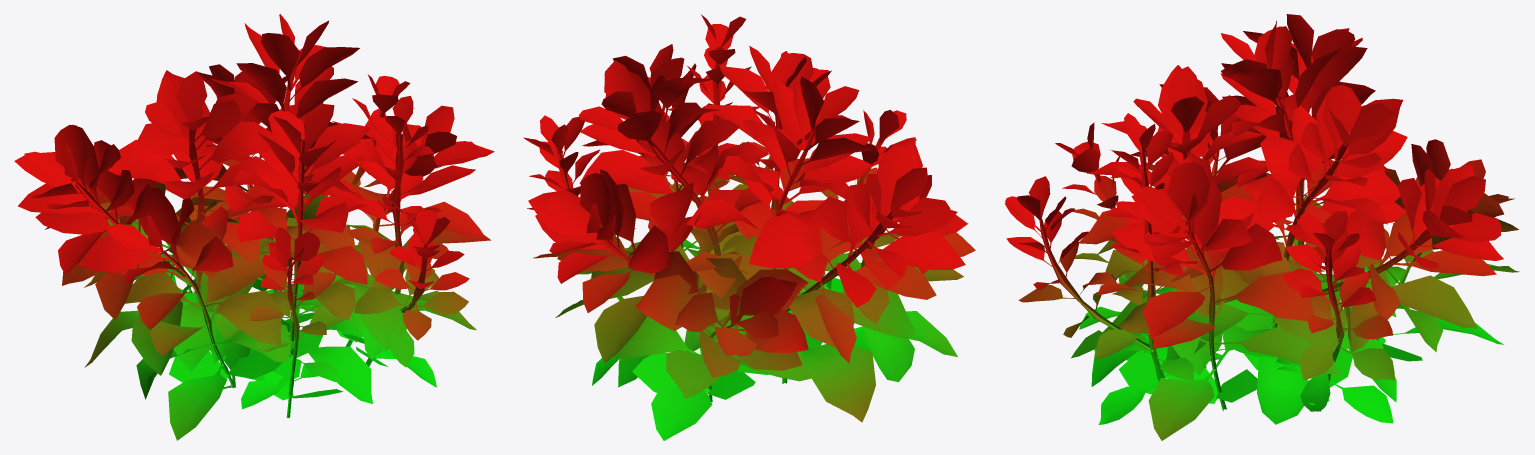
Rendered from Var7_LOD3.fbx.
3 views of the same model, side by side, from view 1: azimuth 30°, elevation 25°; view 2: azimuth 150°, elevation 25°; view 3: azimuth 270°, elevation 25° (orthographic). The views are drawn at different scales.
Parts seen in each view (by area): view 1: _aivk_Var7_LOD3; view 2: _aivk_Var7_LOD3; view 3: _aivk_Var7_LOD3.
Boxes of the visible parts, bbox=[...] form: _aivk_Var7_LOD3: bbox=[14, 14, 494, 440]; _aivk_Var7_LOD3: bbox=[523, 14, 975, 440]; _aivk_Var7_LOD3: bbox=[1005, 14, 1519, 440].
Bounding box in the file's own units: 94.99 × 70.78 × 98.47.
